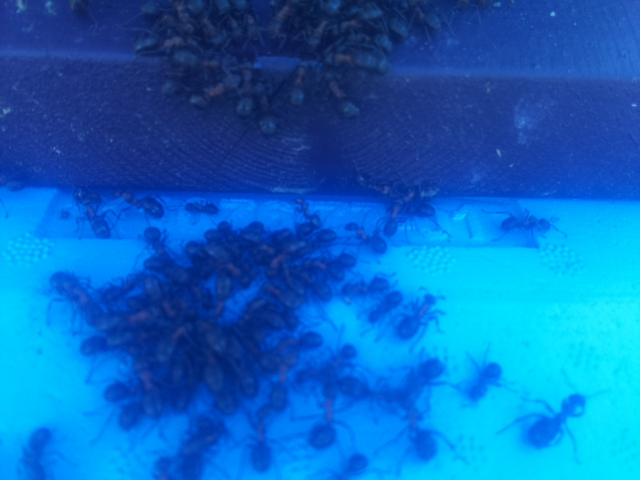ant: (520, 386, 589, 457), (211, 263, 277, 331), (391, 286, 447, 344), (318, 65, 366, 121), (19, 423, 57, 480), (286, 57, 311, 108)
